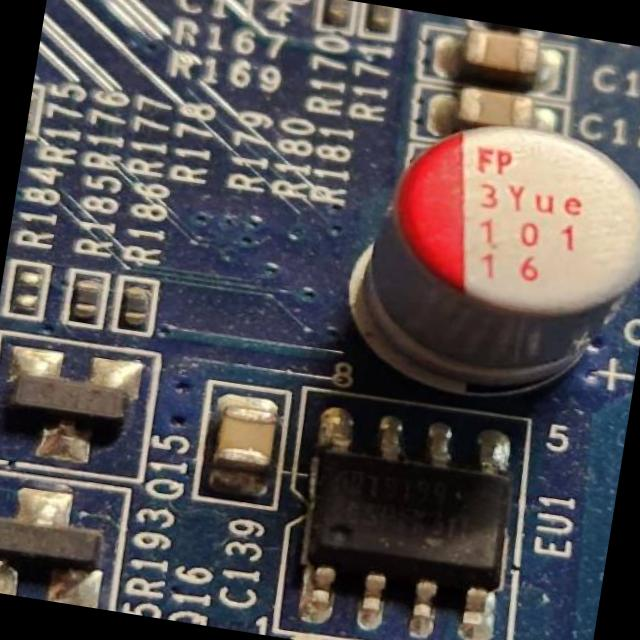IC: (276, 405, 536, 639)
capacitor: (354, 103, 640, 404), (202, 393, 287, 491), (434, 24, 556, 91), (445, 83, 541, 133)
resistor: (119, 282, 159, 333), (66, 278, 106, 321)
transistor: (0, 340, 142, 466), (0, 478, 114, 592)
